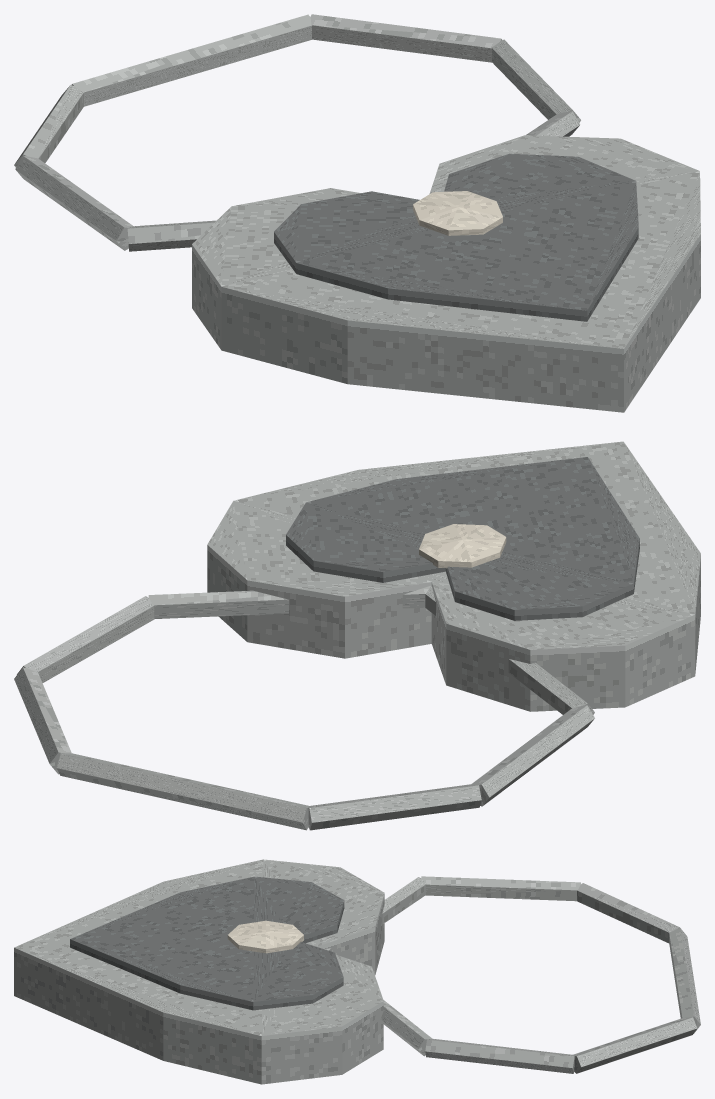
Rendered from altered_necklace.glb.
The picture shows the model from 3 angles, top to bottom: view 1: azimuth 30°, elevation 25°; view 2: azimuth 150°, elevation 25°; view 3: azimuth 270°, elevation 25°; orthographic projection. The views are drawn at different scales.
Visible parts, largest first — view 1: block_heart-shaped silver locket, block_black and white miniature setting, block_fine silver chain 3, block_fine silver chain 4, block_fine silver chain 1, block_miniature photograph silhouette, block_fine silver chain 5, block_fine silver chain 2, block_fine silver chain 0, block_fine silver chain 6; view 2: block_heart-shaped silver locket, block_black and white miniature setting, block_fine silver chain 3, block_fine silver chain 2, block_fine silver chain 6, block_fine silver chain 5, block_fine silver chain 1, block_miniature photograph silhouette, block_fine silver chain 4, block_fine silver chain 0; view 3: block_heart-shaped silver locket, block_black and white miniature setting, block_fine silver chain 1, block_fine silver chain 5, block_fine silver chain 4, block_fine silver chain 2, block_miniature photograph silhouette, block_fine silver chain 3, block_fine silver chain 6, block_fine silver chain 0.
Part boxes in pixels (x1,y1,x2,y2): block_heart-shaped silver locket: (192, 135, 700, 412); block_black and white miniature setting: (274, 153, 638, 321); block_fine silver chain 3: (71, 14, 311, 106); block_fine silver chain 4: (310, 14, 501, 62); block_fine silver chain 1: (15, 155, 133, 250); block_miniature photograph silhouette: (413, 191, 502, 235); block_fine silver chain 5: (492, 39, 580, 122); block_fine silver chain 2: (14, 85, 83, 167); block_fine silver chain 0: (127, 220, 215, 251); block_fine silver chain 6: (526, 111, 580, 136); block_heart-shaped silver locket: (207, 441, 700, 711); block_black and white miniature setting: (286, 457, 639, 620); block_fine silver chain 3: (56, 753, 309, 830); block_fine silver chain 2: (308, 784, 481, 830); block_fine silver chain 6: (148, 586, 430, 618); block_fine silver chain 5: (17, 596, 154, 682); block_fine silver chain 1: (471, 705, 594, 806); block_miniature photograph silhouette: (419, 524, 506, 568); block_fine silver chain 4: (14, 667, 71, 774); block_fine silver chain 0: (425, 586, 594, 714); block_heart-shaped silver locket: (14, 859, 384, 1084); block_black and white miniature setting: (70, 876, 344, 1010); block_fine silver chain 1: (421, 876, 580, 901); block_fine silver chain 5: (425, 1039, 574, 1073); block_fine silver chain 4: (573, 1017, 697, 1073); block_fine silver chain 2: (577, 883, 679, 943); block_miniature photograph silhouette: (227, 920, 303, 953); block_fine silver chain 3: (669, 928, 700, 1033); block_fine silver chain 6: (380, 1000, 432, 1056); block_fine silver chain 0: (324, 877, 426, 951).
Size of the model in its own units: 0.0515 by 0.00833 by 0.0813.
Materials: 1 (1 with a texture image).
